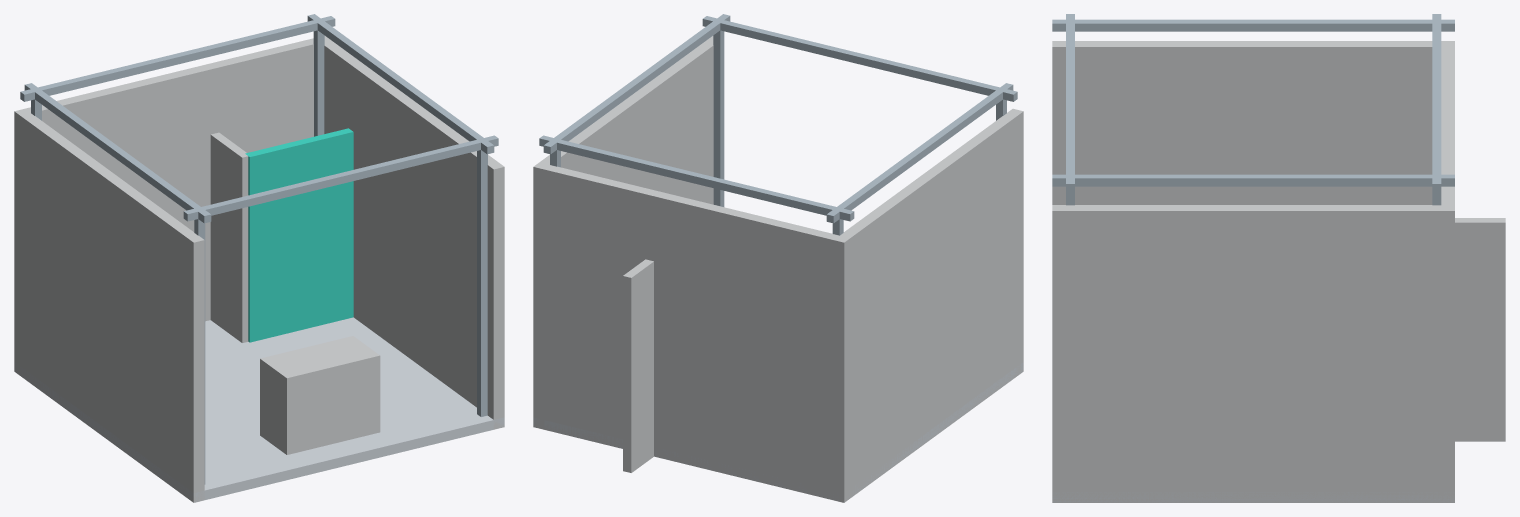
The picture shows the model from 3 angles, left to right: view 1: azimuth 30°, elevation 25°; view 2: azimuth 150°, elevation 25°; view 3: azimuth 270°, elevation 25°; orthographic projection. The views are drawn at different scales.
Visible parts, largest first — view 1: Exhibition Booth Concept; view 2: Exhibition Booth Concept; view 3: Exhibition Booth Concept.
Boxes of the visible parts, box(x1,y1,x2,y2) form: Exhibition Booth Concept: box(14, 14, 504, 502); Exhibition Booth Concept: box(533, 14, 1023, 502); Exhibition Booth Concept: box(1052, 14, 1505, 502).
Bounding box in the file's own units: 4 × 3.49 × 4.51.
